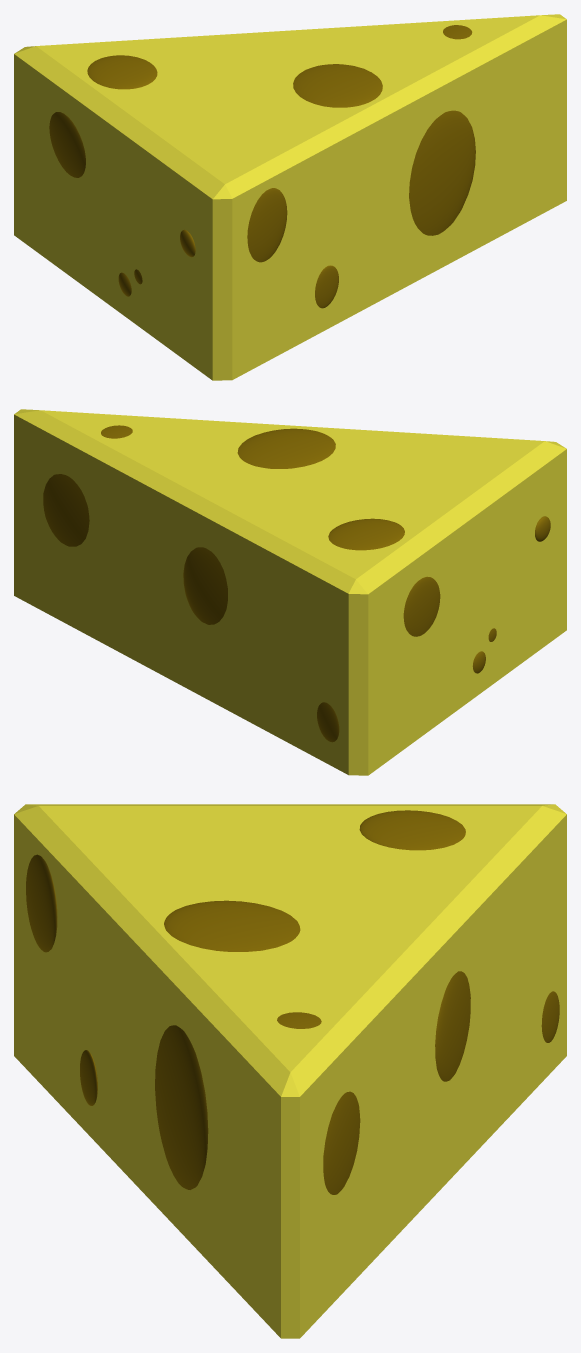
The model's file is cheese1.fbx.
3 views of the same model, one above another, from view 1: azimuth 30°, elevation 25°; view 2: azimuth 150°, elevation 25°; view 3: azimuth 270°, elevation 25° (orthographic). The views are drawn at different scales.
Visible parts, largest first — view 1: Cube, Sphere, Sphere.003, Sphere.001, Sphere.002, Sphere.007, Sphere.006; view 2: Cube, Sphere.003, Sphere.004, Sphere.005, Sphere.002, Sphere.007, Sphere.008; view 3: Cube, Sphere, Sphere.003, Sphere.002, Sphere.004, Sphere.005, Sphere.001, Sphere.006, Sphere.008.
Part boxes in pixels (x1,y1,x2,y2): Cube: (14,14,566,380); Sphere: (409,110,475,235); Sphere.003: (293,64,382,107); Sphere.001: (247,188,287,262); Sphere.002: (87,55,157,89); Sphere.007: (49,112,85,177); Sphere.006: (315,265,338,308); Cube: (14,409,566,775); Sphere.003: (237,428,335,468); Sphere.004: (183,547,227,624); Sphere.005: (43,474,89,546); Sphere.002: (328,518,404,550); Sphere.007: (403,576,440,636); Sphere.008: (317,702,339,742); Cube: (14,804,566,1338); Sphere: (155,1025,208,1189); Sphere.003: (164,900,300,951); Sphere.002: (359,810,465,850); Sphere.004: (435,971,470,1081); Sphere.005: (323,1091,360,1194); Sphere.001: (26,854,57,952); Sphere.006: (80,1050,97,1105); Sphere.008: (541,991,559,1042).
Bounding box in the file's own units: 122 × 51.38 × 96.9.
